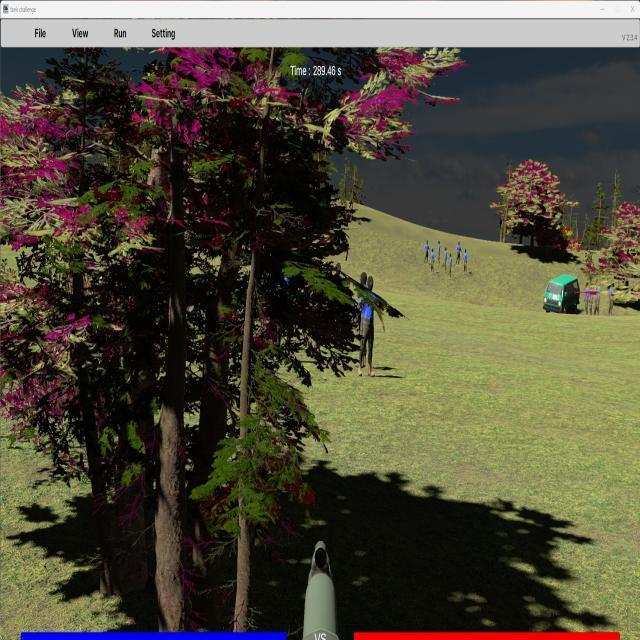Human: (357, 275, 385, 377)
car: (543, 275, 580, 315), (544, 275, 580, 315)
